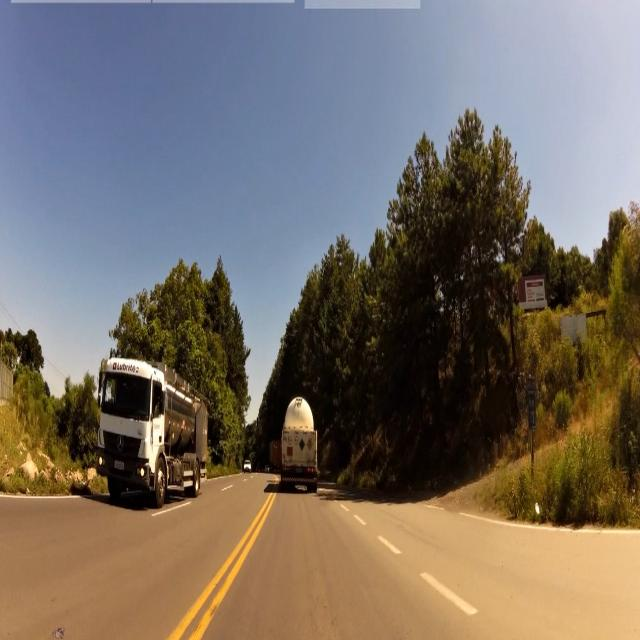RQ: (527, 377, 537, 430)
